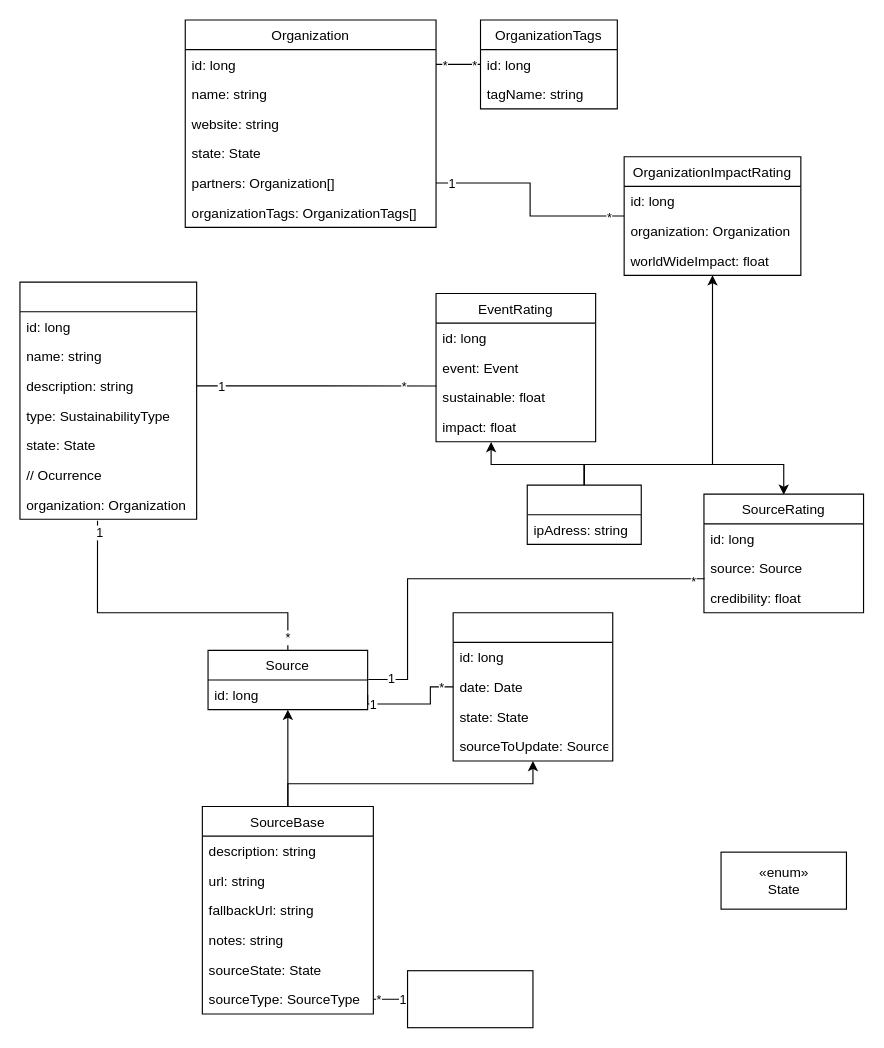
Some shapes in this 884 by 1048 pixel diagram are drawn without their labels. Here are the shapes that lost their labels. From the top down, the box of each, then its label:
(19, 281, 197, 519): Event
(526, 484, 641, 544): Rating
(452, 612, 613, 761): SourceUpdate
(406, 970, 533, 1028): «enum» SourceType
